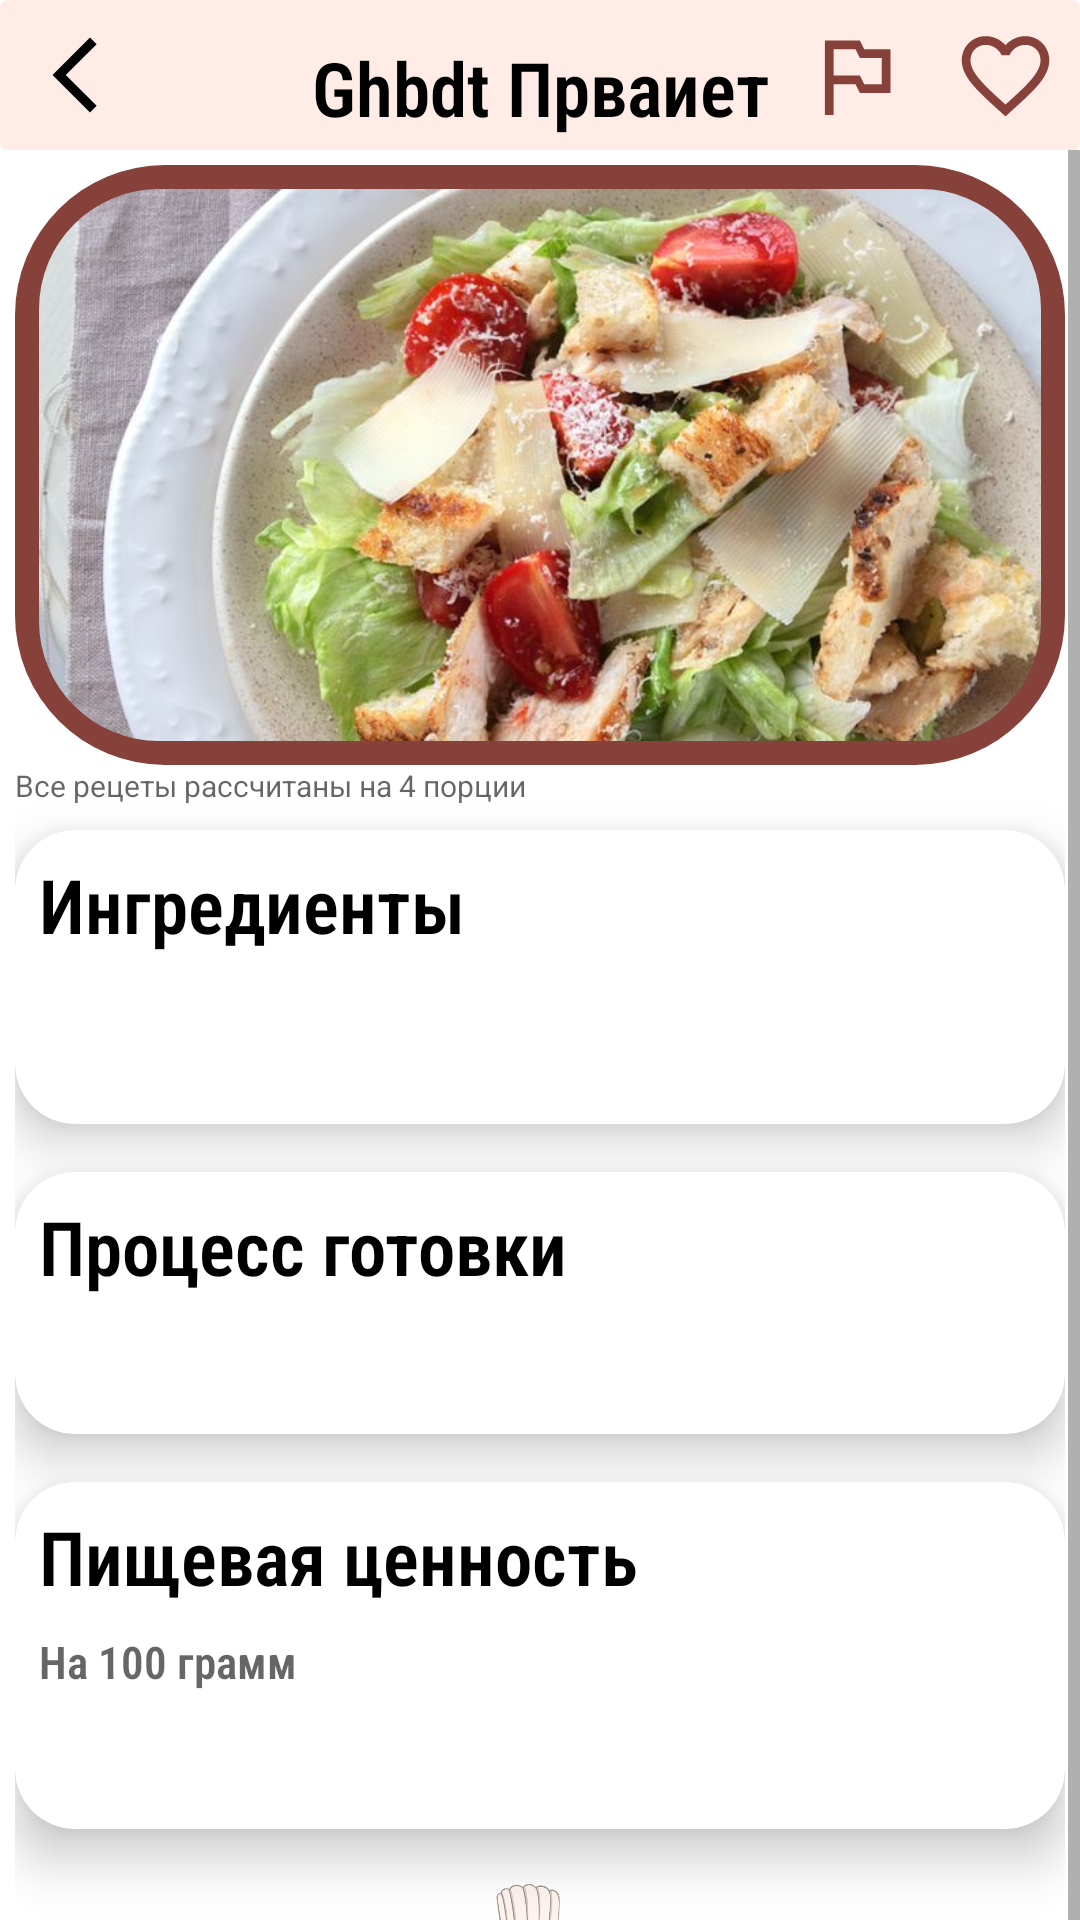

Icons on this 1080px x 1920px Android screen, each with the point to tap as point (x, y):
arrow back: point (48, 56)
favorite border: point (1020, 58)
flag: point (858, 77)
